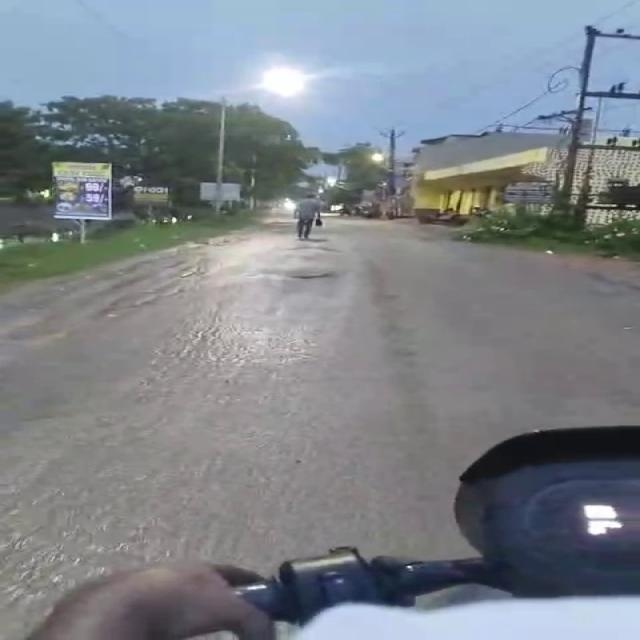pothole: (270, 270, 342, 284), (294, 243, 346, 256)
